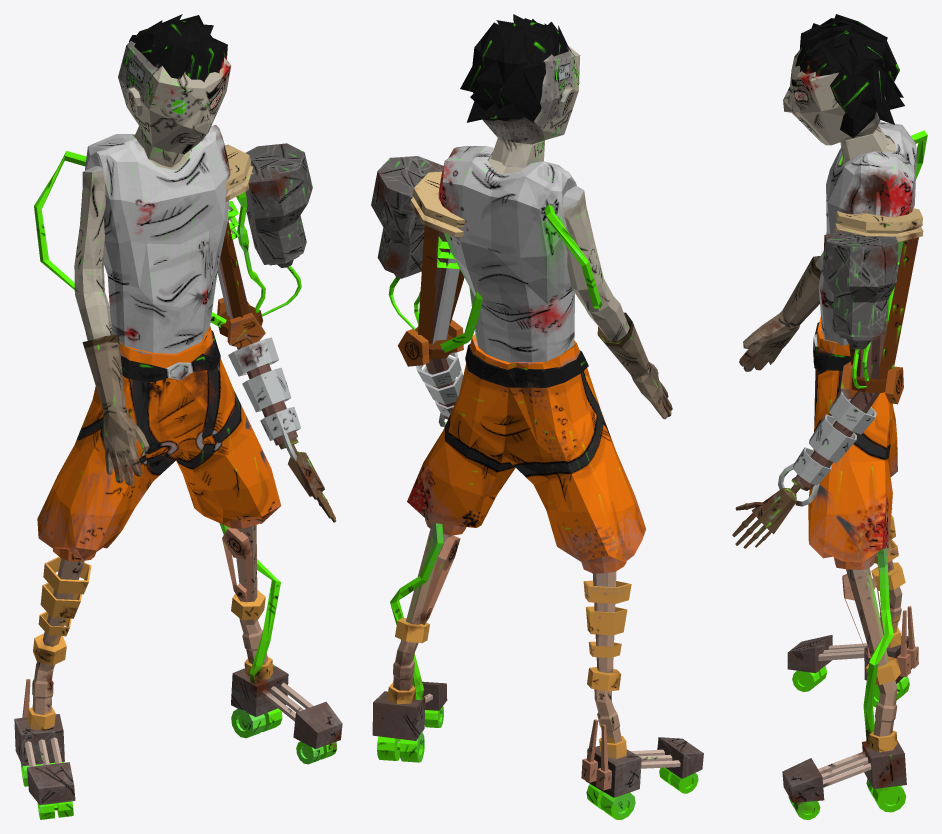
Rendered from CyborgFINALAnimation_000033.obj.
3 views of the same model, side by side, from view 1: azimuth 30°, elevation 25°; view 2: azimuth 150°, elevation 25°; view 3: azimuth 270°, elevation 25° (orthographic). The views are drawn at different scales.
Parts seen in each view (by area): view 1: CyborgMesh_Cube.002; view 2: CyborgMesh_Cube.002; view 3: CyborgMesh_Cube.002.
Part boxes in pixels (bbox=[...]): CyborgMesh_Cube.002: bbox=[14, 14, 342, 819]; CyborgMesh_Cube.002: bbox=[371, 14, 703, 819]; CyborgMesh_Cube.002: bbox=[732, 14, 927, 819].
Bounding box in the file's own units: 3.99 × 9.63 × 2.32.
